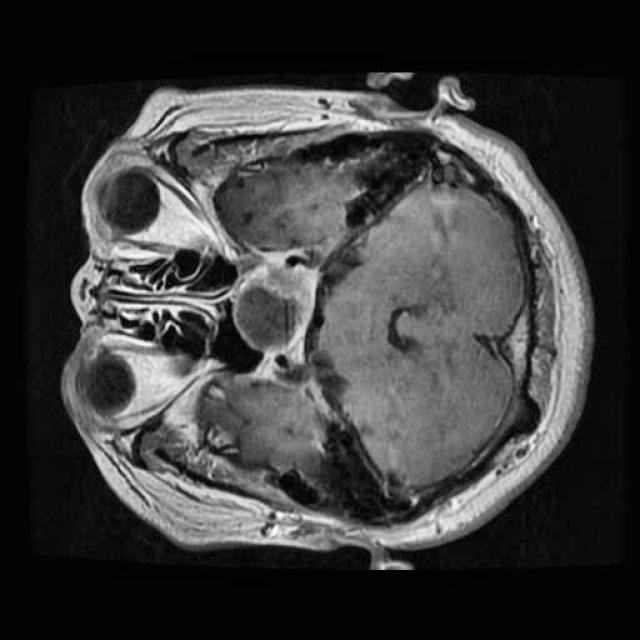Tumor: (223, 242, 324, 362)
